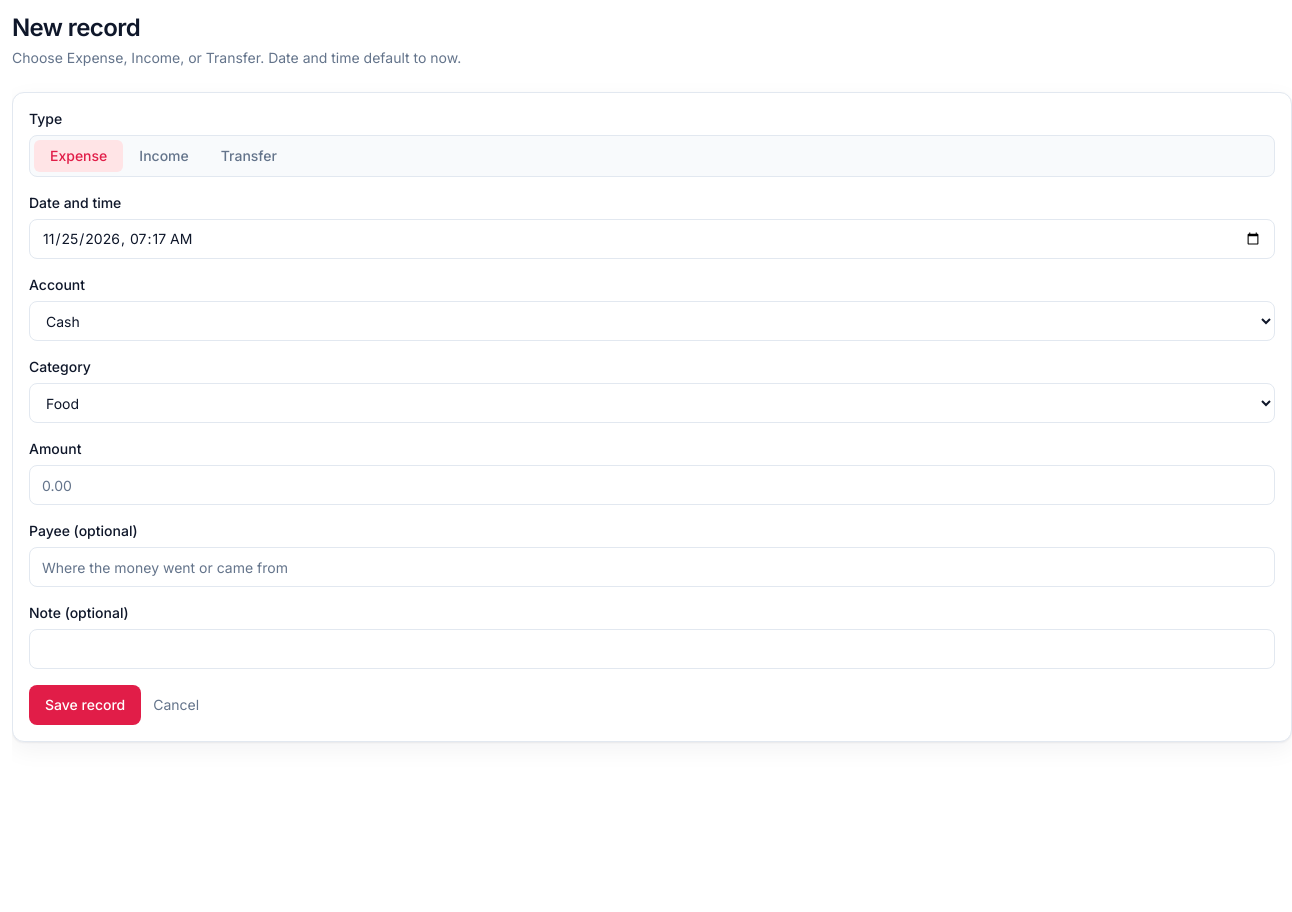
Test: TransactionFormPage with three types (D-019) › blocks saving a transfer to the same account
Click the button "Transfer".
click(249, 156)  # box [205,140,293,172]
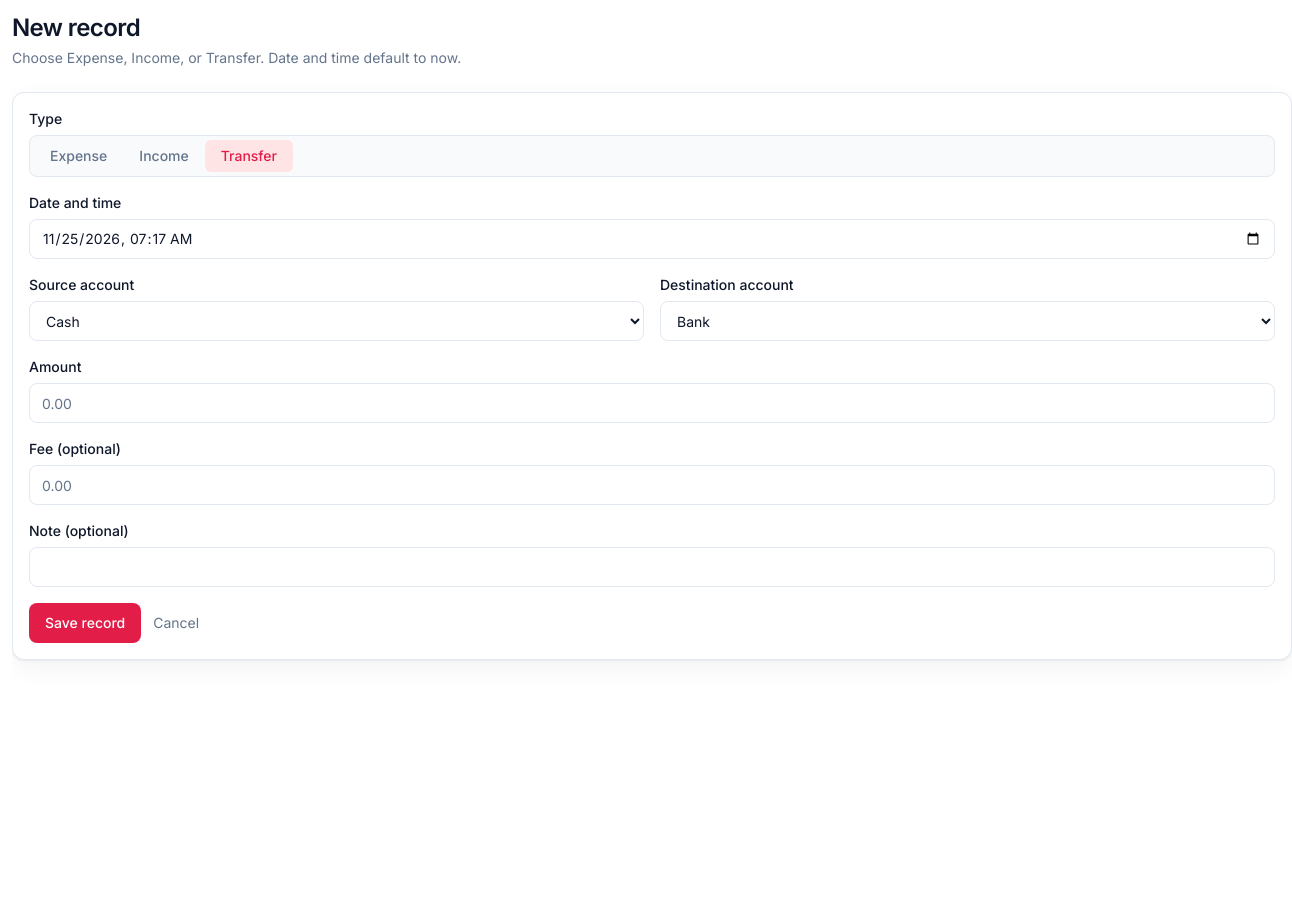
Select "Cash" in the dropdown labelled "Destination account" at (968, 321), box [660,301,1275,341]
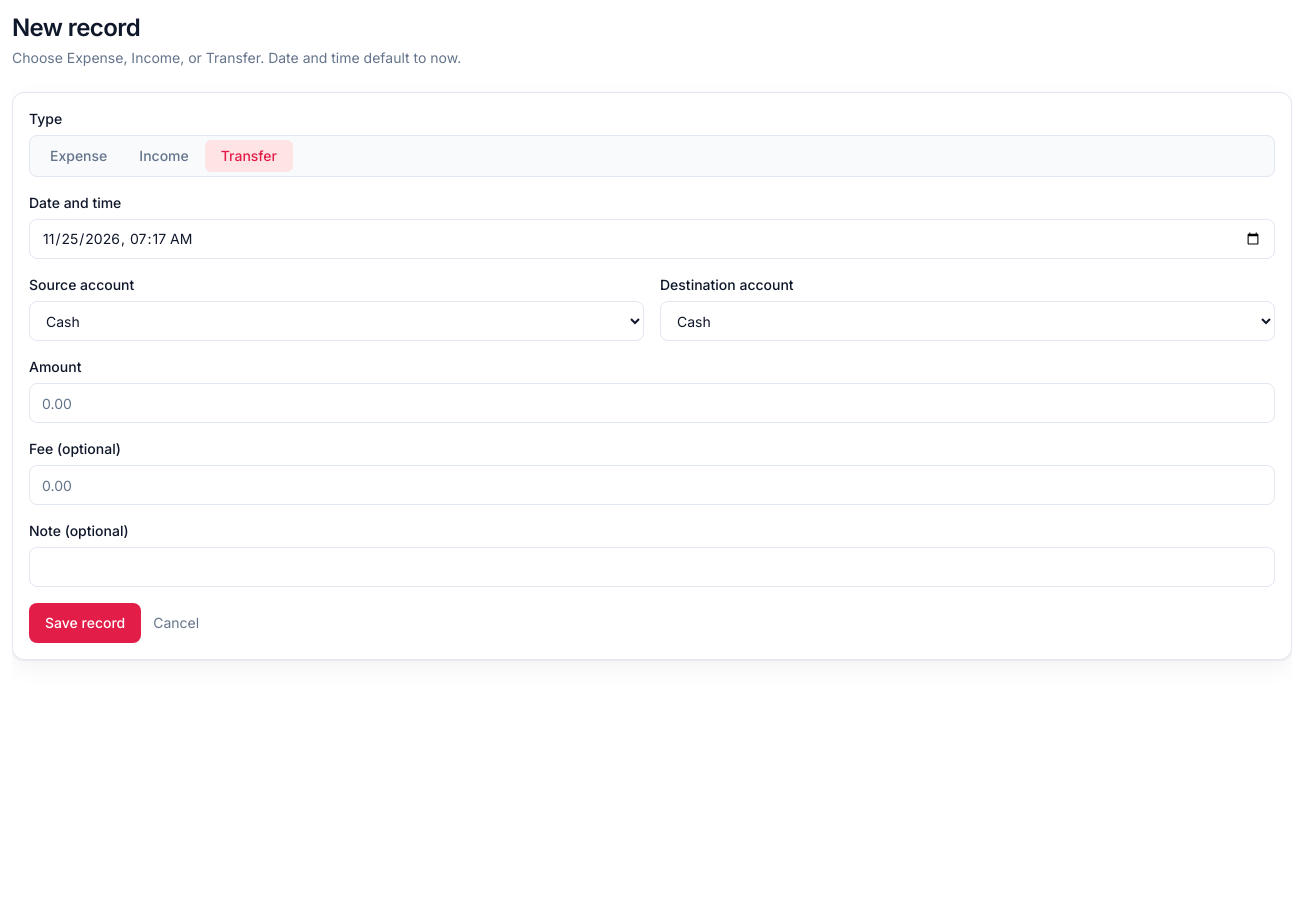
Type "10" into the field labelled "Amount".
click(652, 403); type("10")  # box [29,383,1275,423]
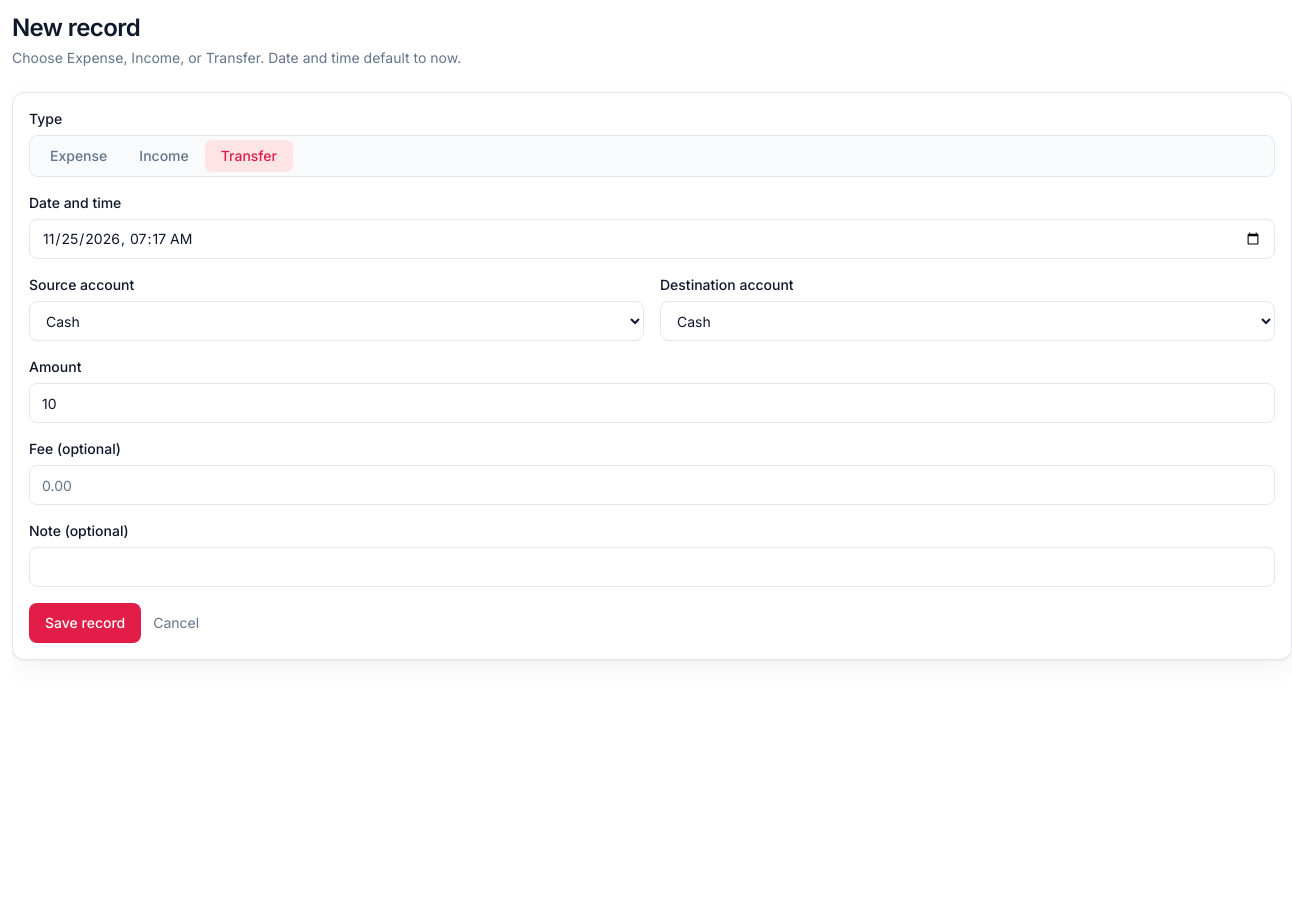
Click the button "Save record".
click(85, 623)  # box [29,603,141,643]
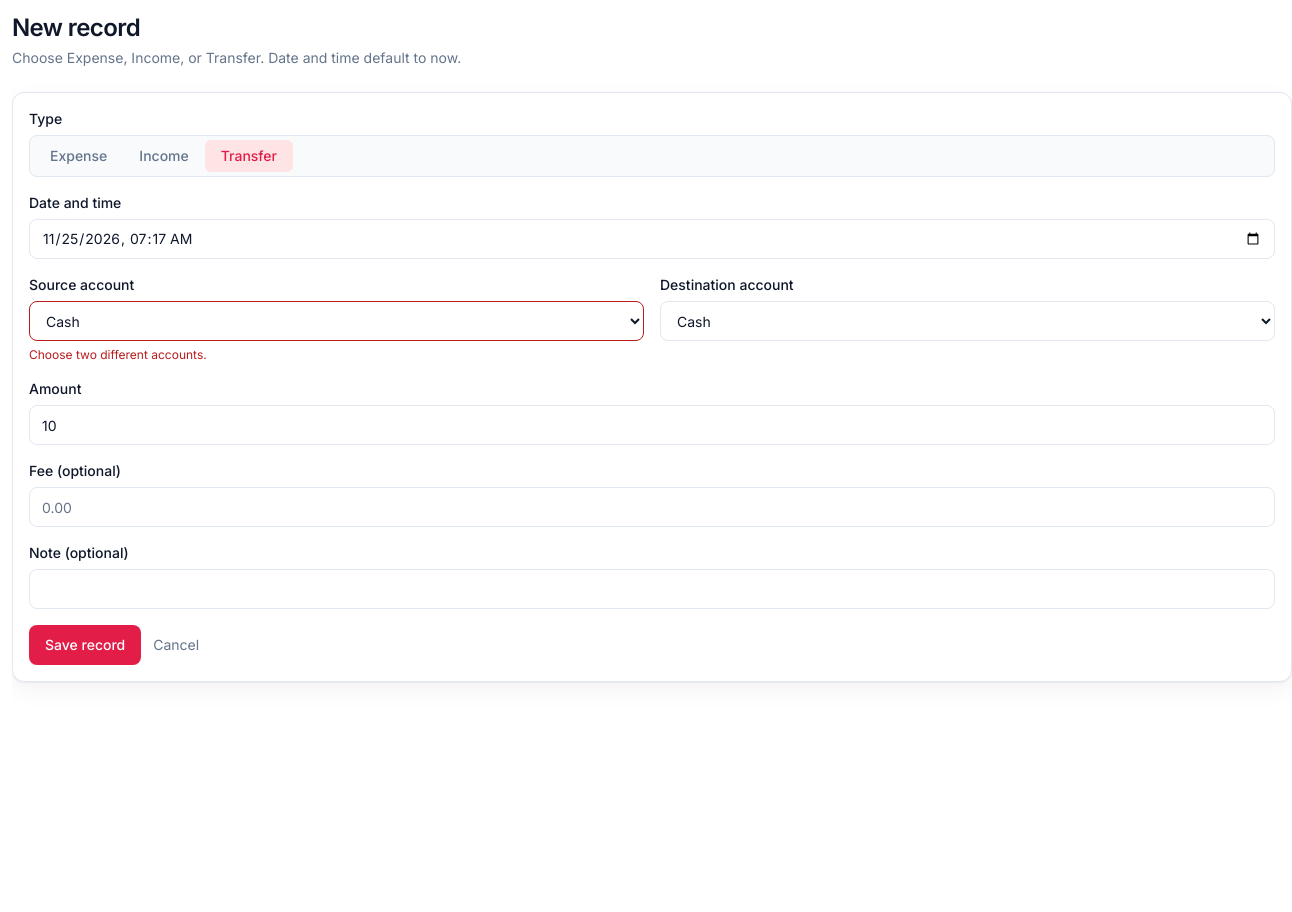
Now the text "Choose two different accounts." is shown, box [29,347,207,362]
